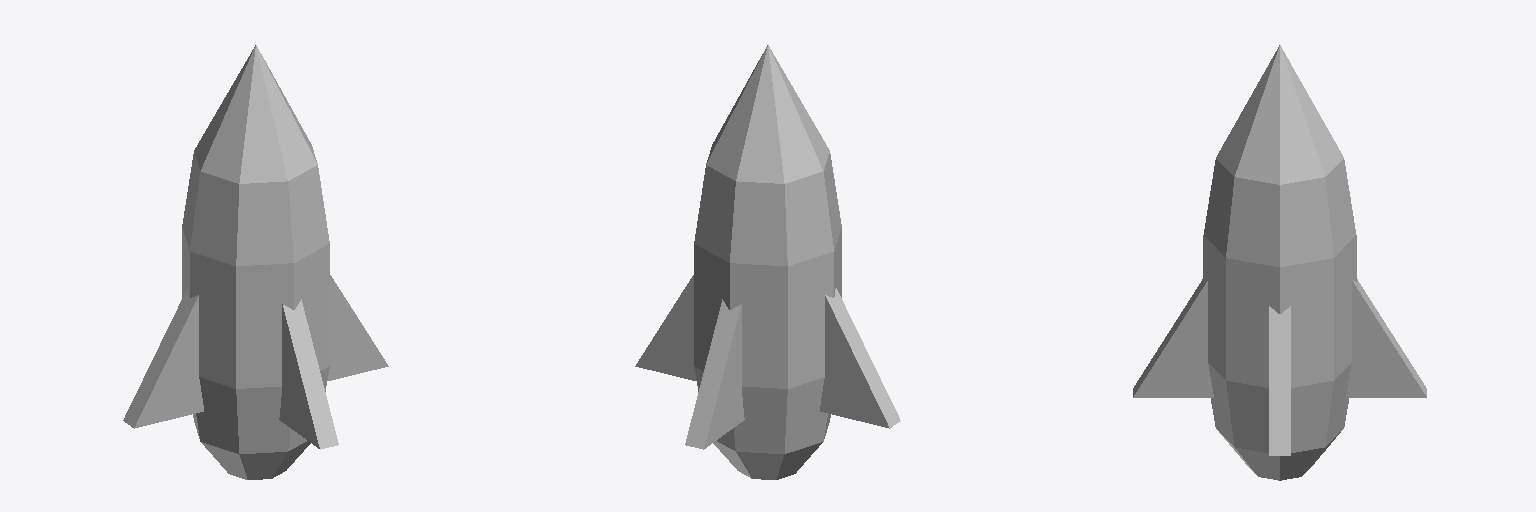
Rendered from rocket.obj.
3 renders of one model, left to right at view 1: azimuth 30°, elevation 25°; view 2: azimuth 150°, elevation 25°; view 3: azimuth 270°, elevation 25°, orthographic.
Parts seen in each view (by area): view 1: Cone, Cylinder.002, Cylinder.003, Cylinder; view 2: Cone, Cylinder.002, Cylinder.001, Cylinder; view 3: Cone, Cylinder.001, Cylinder.003, Cylinder.
Part boxes in pixels (left/top/right/bottom): Cone: left=182, top=45, right=329, bottom=479; Cylinder.002: left=123, top=288, right=203, bottom=428; Cylinder.003: left=279, top=299, right=338, bottom=449; Cylinder: left=327, top=275, right=388, bottom=380; Cone: left=694, top=45, right=841, bottom=479; Cylinder.002: left=820, top=288, right=900, bottom=428; Cylinder.001: left=685, top=299, right=744, bottom=449; Cylinder: left=635, top=275, right=696, bottom=380; Cone: left=1203, top=45, right=1356, bottom=480; Cylinder.001: left=1346, top=279, right=1426, bottom=397; Cylinder.003: left=1133, top=279, right=1213, bottom=397; Cylinder: left=1269, top=306, right=1290, bottom=455.
Size of the model in its own units: 3.13 by 4.96 by 3.13.